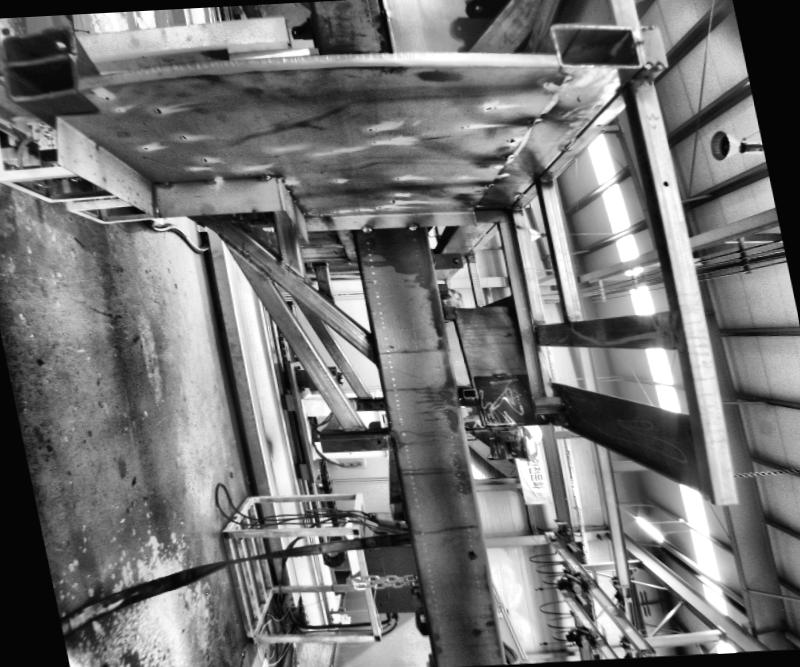hole: (656, 178, 668, 189), (463, 549, 470, 556), (371, 439, 378, 445), (632, 330, 638, 336)
welding: (192, 173, 220, 188), (148, 175, 170, 188), (399, 221, 418, 231), (356, 223, 370, 235), (249, 173, 268, 181)
